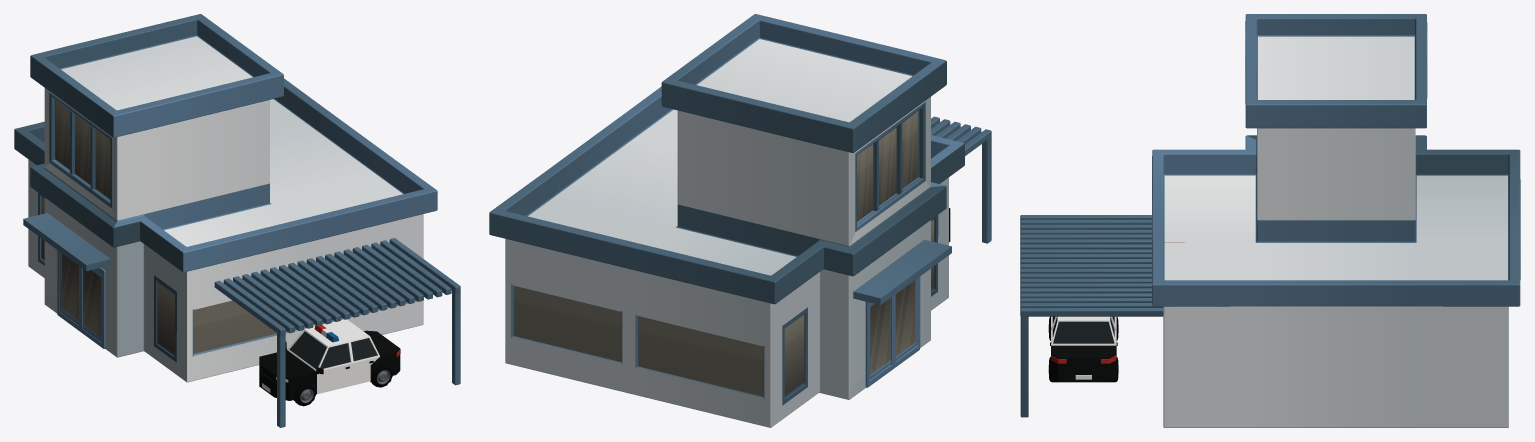
The model's file is poli.fbx.
3 renders of one model, left to right at view 1: azimuth 30°, elevation 25°; view 2: azimuth 150°, elevation 25°; view 3: azimuth 270°, elevation 25°, orthographic. The views are drawn at different scales.
Visible parts, largest first — view 1: Cube.026; view 2: Cube.026; view 3: Cube.026.
Part boxes in pixels (x1,y1,x2,y2): Cube.026: (14, 14, 460, 427); Cube.026: (489, 14, 991, 427); Cube.026: (1020, 14, 1520, 427).
Bounding box in the file's own units: 1881 × 1526 × 2520.
4 materials, 4 textured.
